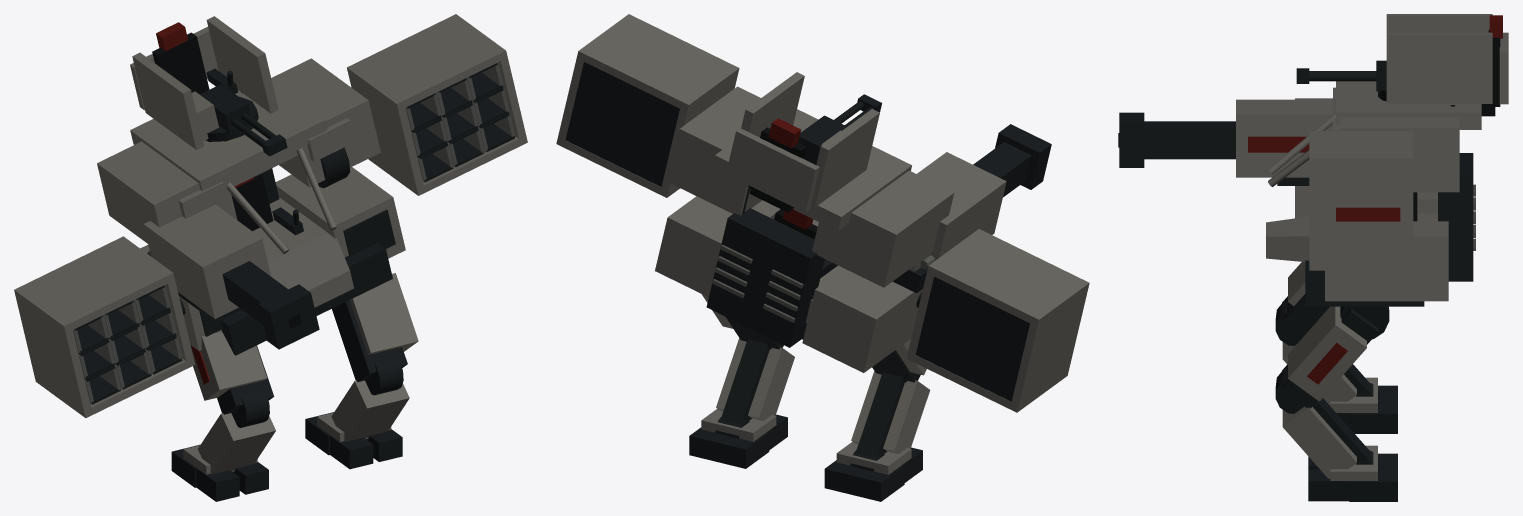
3 renders of one model, left to right at view 1: azimuth 30°, elevation 25°; view 2: azimuth 150°, elevation 25°; view 3: azimuth 270°, elevation 25°, orthographic. The views are drawn at different scales.
Parts seen in each view (by area): view 1: mech-torso-painted, mech-silo-left-lower-painted, mech-silo-right-painted, mech-cannon-recoil-painted, mech-mg-yaw-roof-painted, mech-hip-1-painted, mech-hip-0-painted, mech-knee-0-painted, mech-knee-1-painted, mech-mg-pitch-roof-painted, mech-ankle-1-painted, mech-ankle-0-painted (+2 smaller); view 2: mech-torso-painted, mech-silo-left-lower-painted, mech-silo-right-painted, mech-mg-yaw-roof-painted, mech-cannon-recoil-painted, mech-knee-0-painted, mech-knee-1-painted, mech-ankle-1-painted, mech-ankle-0-painted, mech-mg-pitch-roof-painted, mech-seat-gunner-painted, mech-hip-0-painted (+3 smaller); view 3: mech-torso-painted, mech-silo-right-painted, mech-cannon-recoil-painted, mech-mg-yaw-roof-painted, mech-hip-1-painted, mech-knee-1-painted, mech-ankle-1-painted, mech-ankle-0-painted, mech-knee-0-painted, mech-hip-0-painted, mech-mg-pitch-roof-painted, mech-seat-gunner-painted (+1 smaller).
Part boxes in pixels (<box>): mech-torso-painted: <box>97,58,405,355</box>; mech-silo-left-lower-painted: <box>14,236,194,417</box>; mech-silo-right-painted: <box>347,14,527,195</box>; mech-cannon-recoil-painted: <box>143,204,319,349</box>; mech-mg-yaw-roof-painted: <box>130,16,278,149</box>; mech-hip-1-painted: <box>332,273,418,381</box>; mech-hip-0-painted: <box>190,331,274,414</box>; mech-knee-0-painted: <box>198,391,275,474</box>; mech-knee-1-painted: <box>331,358,409,441</box>; mech-mg-pitch-roof-painted: <box>192,84,287,156</box>; mech-ankle-1-painted: <box>305,412,402,469</box>; mech-ankle-0-painted: <box>171,444,268,501</box>; mech-torso-painted: <box>655,86,954,372</box>; mech-silo-left-lower-painted: <box>906,229,1089,412</box>; mech-silo-right-painted: <box>556,14,739,197</box>; mech-mg-yaw-roof-painted: <box>726,72,879,212</box>; mech-cannon-recoil-painted: <box>909,124,1051,271</box>; mech-knee-0-painted: <box>851,371,930,457</box>; mech-knee-1-painted: <box>716,338,794,424</box>; mech-ankle-1-painted: <box>689,408,787,468</box>; mech-ankle-0-painted: <box>824,441,922,501</box>; mech-mg-pitch-roof-painted: <box>798,94,881,164</box>; mech-seat-gunner-painted: <box>748,118,806,212</box>; mech-hip-0-painted: <box>872,339,926,382</box>; mech-torso-painted: <box>1266,81,1481,306</box>; mech-silo-right-painted: <box>1309,131,1413,270</box>; mech-cannon-recoil-painted: <box>1118,99,1332,177</box>; mech-mg-yaw-roof-painted: <box>1378,14,1508,104</box>; mech-hip-1-painted: <box>1282,306,1389,408</box>; mech-knee-1-painted: <box>1275,368,1370,478</box>; mech-ankle-1-painted: <box>1308,445,1397,501</box>; mech-ankle-0-painted: <box>1330,377,1397,433</box>; mech-knee-0-painted: <box>1275,300,1370,405</box>; mech-hip-0-painted: <box>1282,262,1329,336</box>; mech-mg-pitch-roof-painted: <box>1296,60,1386,91</box>; mech-seat-gunner-painted: <box>1481,15,1502,116</box>.
Bounding box in the file's own units: 37.51 × 30.45 × 25.88.
